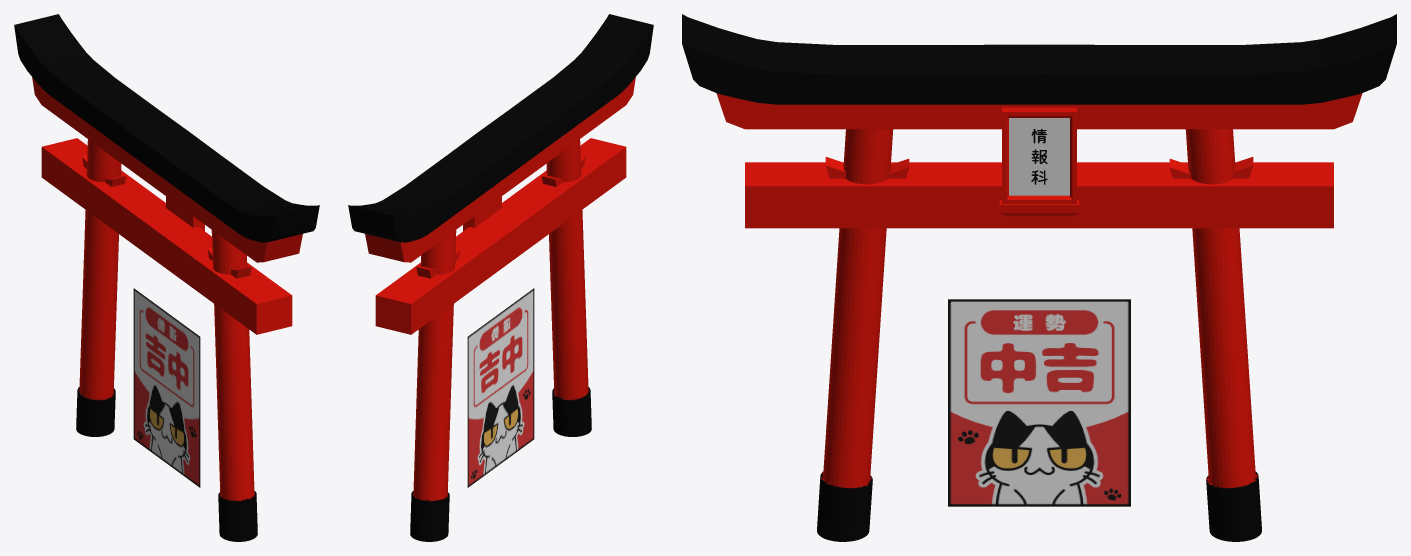
Rendered from chukichi.glb.
3 views of the same model, side by side, from view 1: azimuth 30°, elevation 25°; view 2: azimuth 150°, elevation 25°; view 3: azimuth 270°, elevation 25° (orthographic). The views are drawn at different scales.
Parts seen in each view (by area): view 1: Cube, 中吉; view 2: Cube, 中吉; view 3: Cube, 中吉.
Part boxes in pixels (bbox=[...]): Cube: bbox=[14, 14, 319, 541]; 中吉: bbox=[133, 288, 200, 487]; Cube: bbox=[348, 14, 653, 541]; 中吉: bbox=[467, 288, 534, 487]; Cube: bbox=[682, 14, 1396, 541]; 中吉: bbox=[948, 299, 1130, 506].
Bounding box in the file's own units: 0.6617 × 4.84 × 6.25.
Materials: 4 (3 with a texture image).
